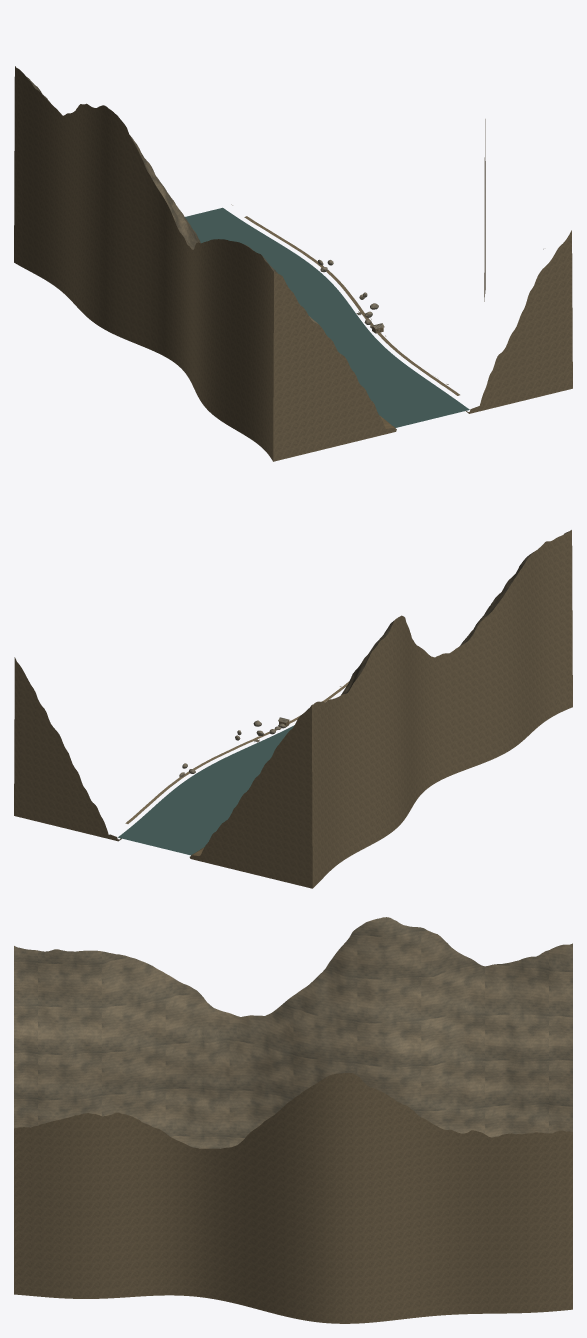
File: ch05_jinsha_ferry.glb
The picture shows the model from 3 angles, top to bottom: view 1: azimuth 30°, elevation 25°; view 2: azimuth 150°, elevation 25°; view 3: azimuth 270°, elevation 25°; orthographic projection. The views are drawn at different scales.
Parts seen in each view (by area): view 1: OuterRim, RiverPlaceholder__RiverSurface, CanyonWest__ErodedStrata, BankPath; view 2: OuterRim, RiverPlaceholder__RiverSurface, CanyonWest__ErodedStrata, BankPath; view 3: OuterRim, CanyonWest__ErodedStrata.
Boxes of the visible parts, bbox=[...] form: OuterRim: bbox=[14, 66, 572, 461]; RiverPlaceholder__RiverSurface: bbox=[185, 207, 469, 427]; CanyonWest__ErodedStrata: bbox=[26, 76, 396, 429]; BankPath: bbox=[244, 216, 459, 395]; OuterRim: bbox=[14, 530, 572, 888]; RiverPlaceholder__RiverSurface: bbox=[118, 725, 294, 855]; CanyonWest__ErodedStrata: bbox=[190, 530, 570, 856]; BankPath: bbox=[125, 681, 349, 823]; OuterRim: bbox=[14, 1073, 572, 1323]; CanyonWest__ErodedStrata: bbox=[14, 917, 572, 1148].
Size of the model in its own units: 192 by 123 by 250.
4 materials, 3 textured.
